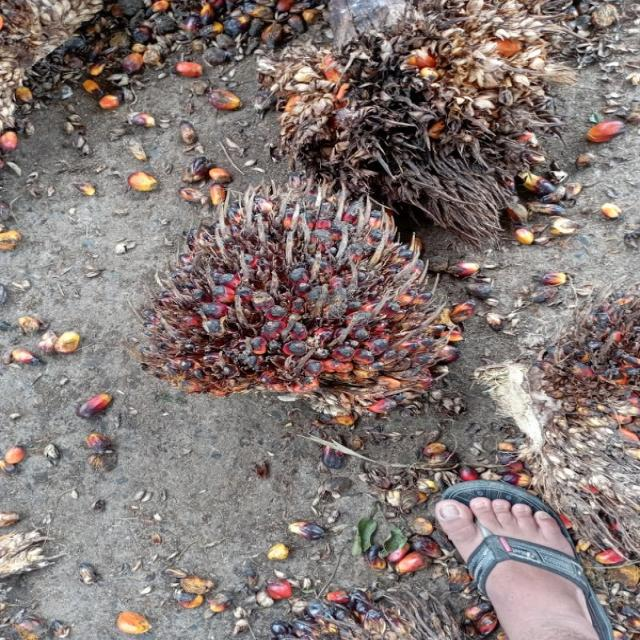fraksi 4: (152, 193, 444, 413), (267, 5, 568, 210)
